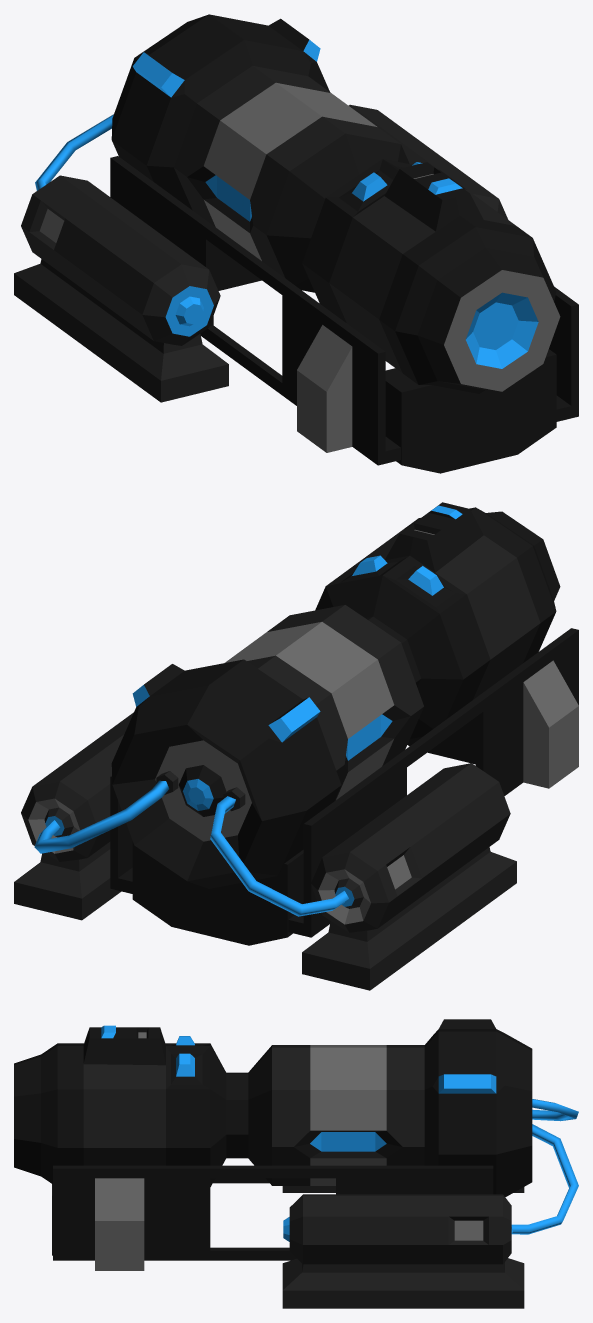
File: Generator.fbx
3 renders of one model, top to bottom at view 1: azimuth 30°, elevation 25°; view 2: azimuth 150°, elevation 25°; view 3: azimuth 270°, elevation 25°, orthographic. The views are drawn at different scales.
Parts seen in each view (by area): view 1: Cylinder, Cube, Cylinder.001, BezierCurve; view 2: Cylinder, Cylinder.001, Cube, BezierCurve; view 3: Cylinder, Cylinder.001, Cube, BezierCurve.
Part boxes in pixels (x1,y1,x2,y2): Cylinder: (111, 14, 560, 393); Cube: (110, 156, 578, 473); Cylinder.001: (14, 104, 508, 402); BezierCurve: (35, 114, 113, 190); Cylinder: (111, 502, 560, 888); Cylinder.001: (14, 712, 516, 990); Cube: (110, 628, 578, 945); BezierCurve: (34, 780, 348, 916); Cylinder: (14, 1019, 532, 1196); Cylinder.001: (282, 1186, 524, 1308); Cube: (52, 1165, 493, 1270); BezierCurve: (511, 1099, 578, 1234).
Size of the model in its own units: 765 by 507 by 1236.
